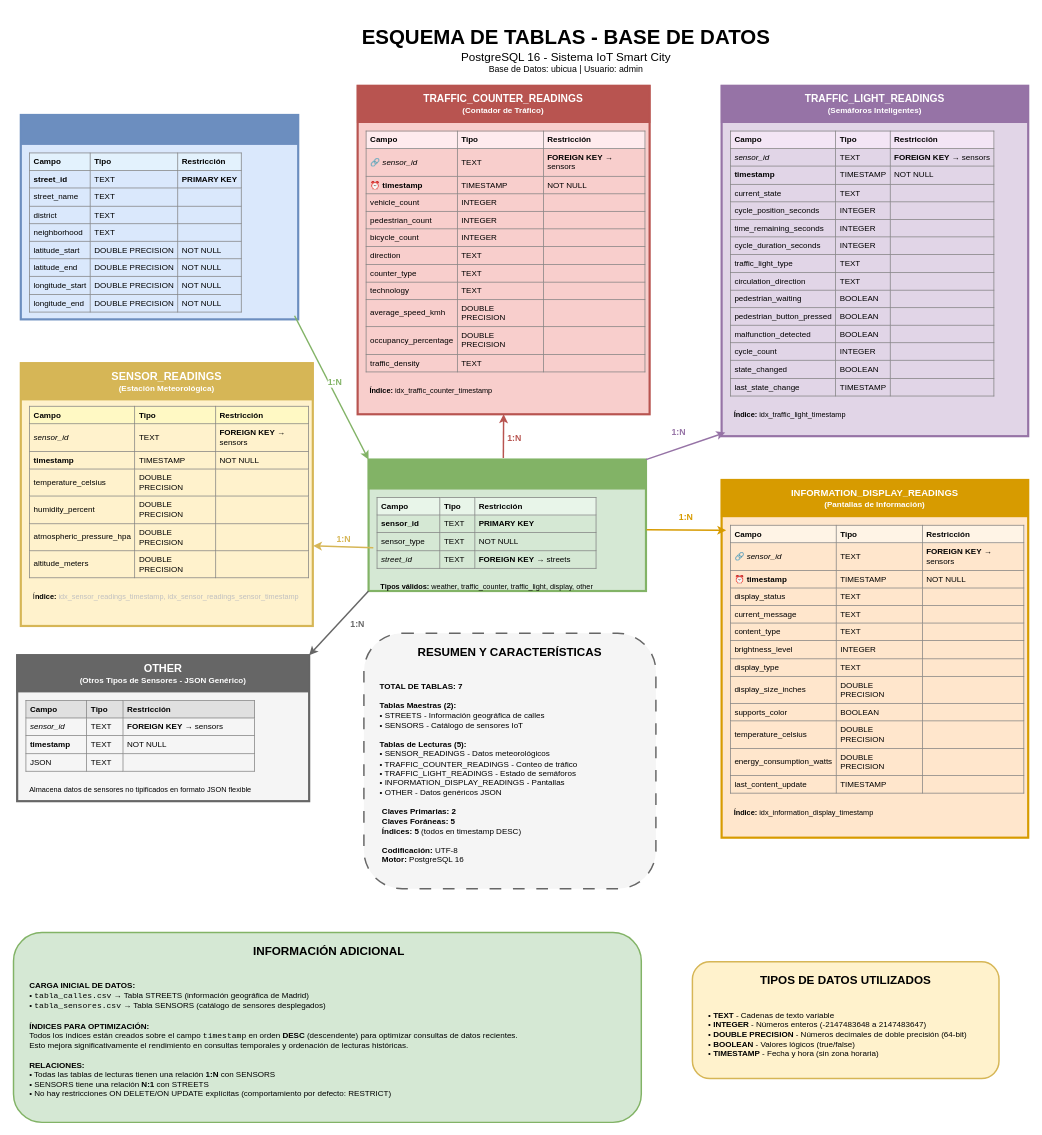
Image size: 1042x1135. Some labels were removed from this diagram. Here are the shapes that lost their labels. From the top down, the box of each, then its label:
(20, 114, 299, 145): STREETS
(367, 459, 646, 489): SENSORS
